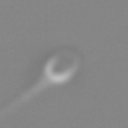normal: (1, 76, 50, 122)
